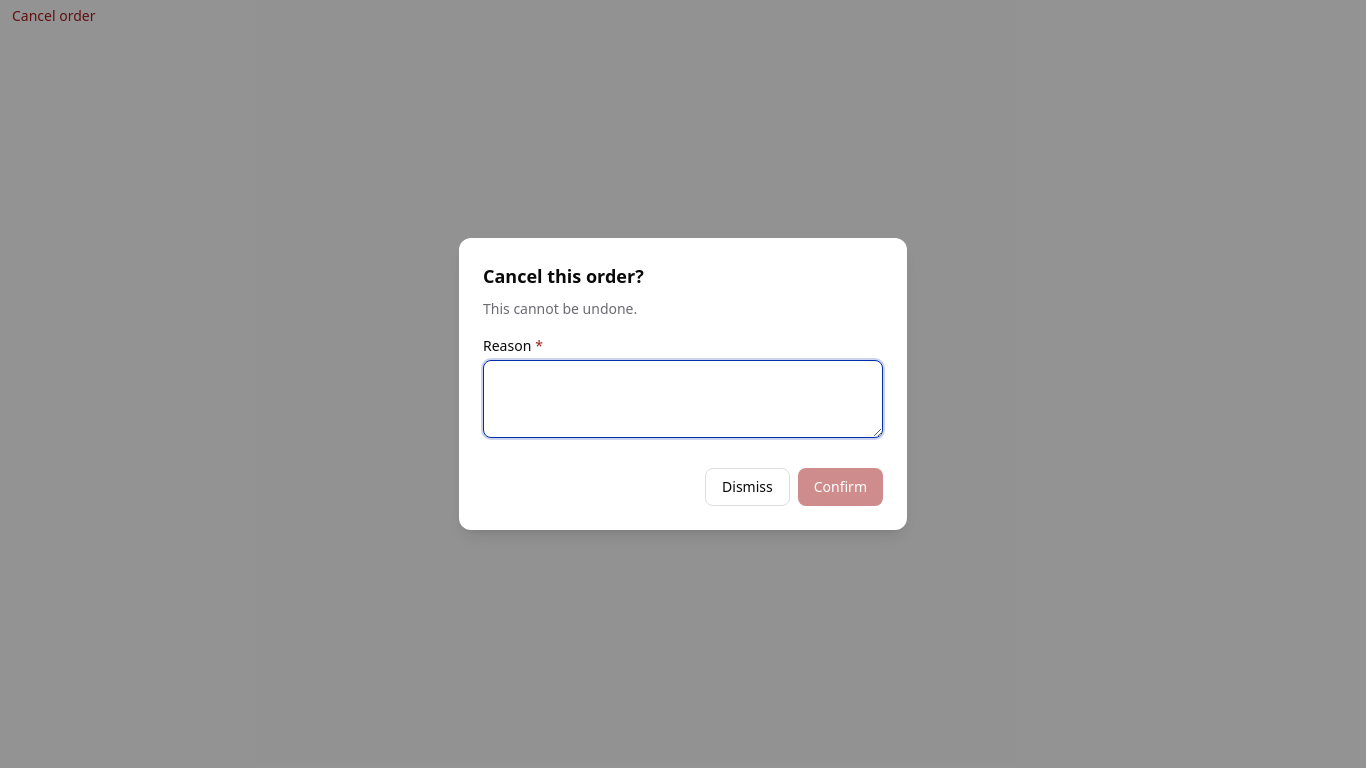
Test: ConfirmDialog accessibility › keeps a field-mode dialog open with the value and error intact after a failed submit
Type "Customer changed their mind" into the text box labelled "Reason". click: (683, 399)
box: [483,360,883,438]
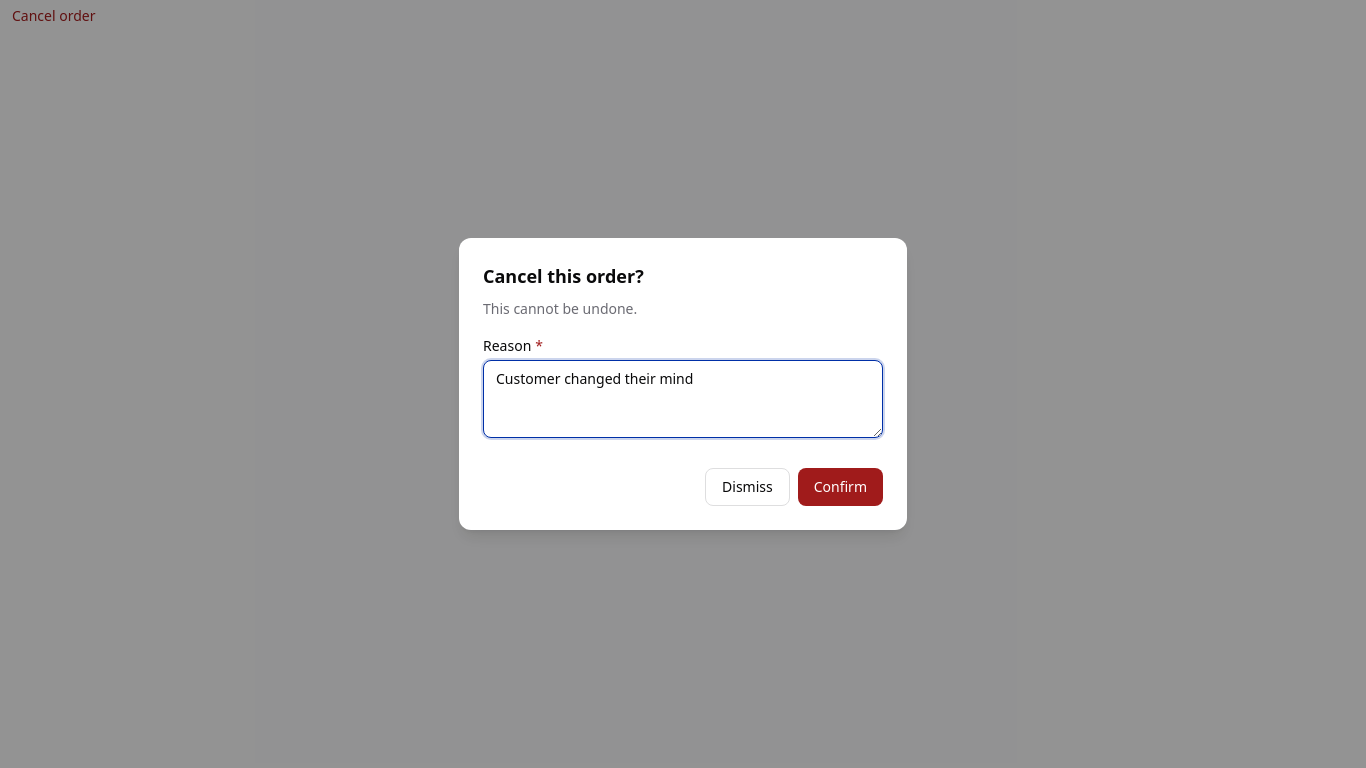
Click the button "Confirm". click: (840, 487)
box: [798,468,883,506]
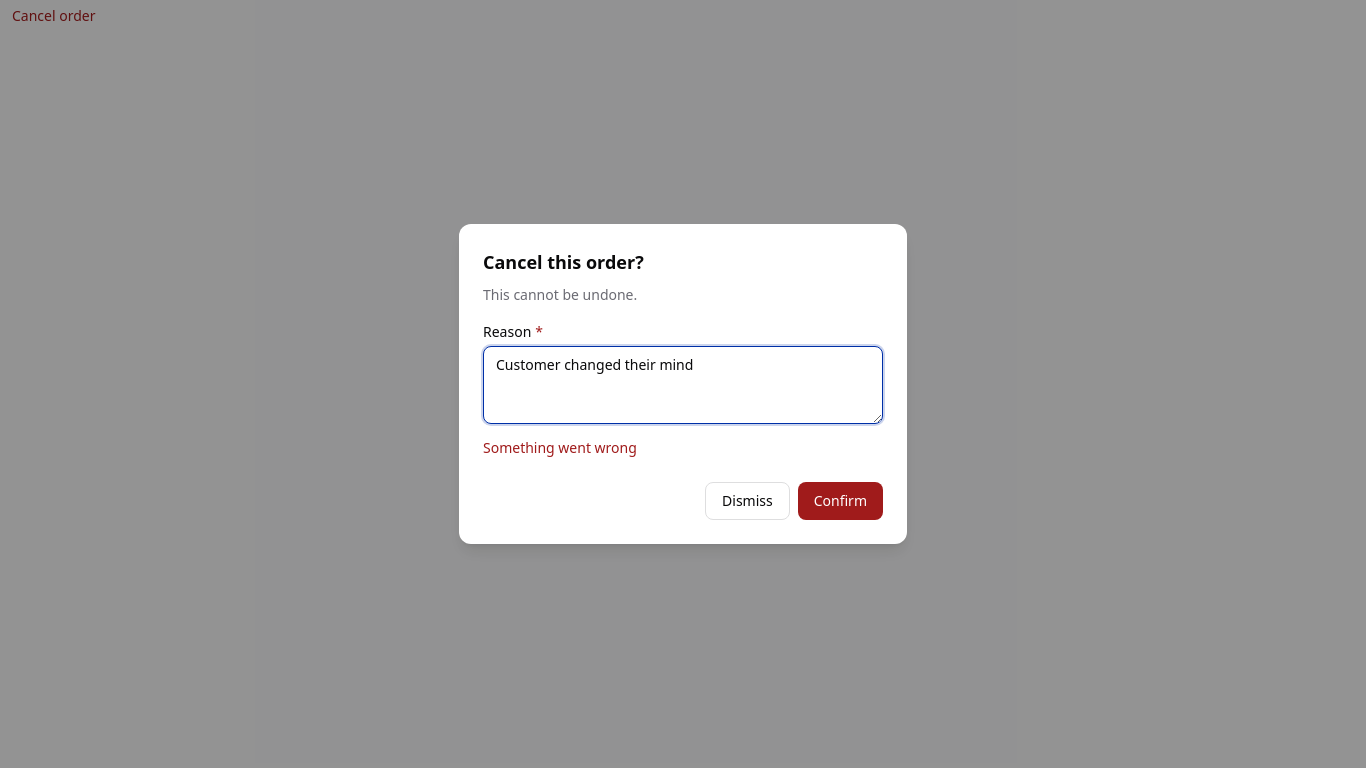
Expected: the dialog is shown, [459,224,907,544]
Now the text "Something went wrong" is shown, box [483,438,637,457]
